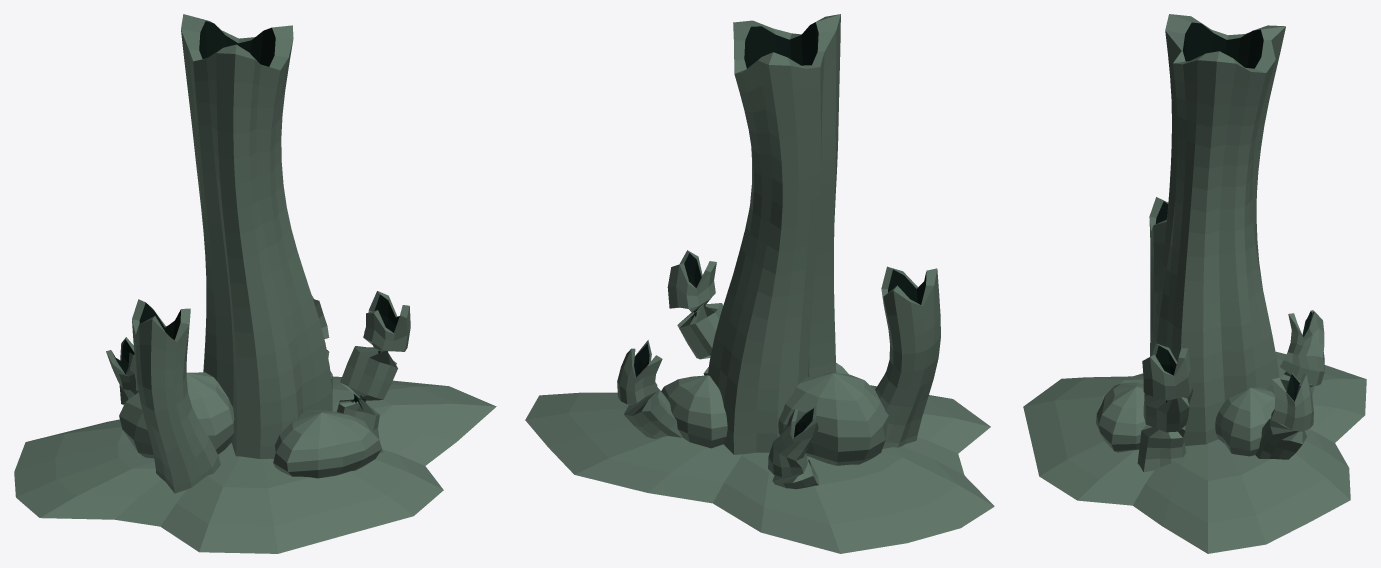
The model's file is landmark_pressure_vent_a.glb.
3 views of the same model, side by side, from view 1: azimuth 30°, elevation 25°; view 2: azimuth 150°, elevation 25°; view 3: azimuth 270°, elevation 25° (orthographic). The views are drawn at different scales.
Visible parts, largest first — view 1: landmark_pressure_vent_a_lod0; view 2: landmark_pressure_vent_a_lod0; view 3: landmark_pressure_vent_a_lod0.
Boxes of the visible parts, left/top/right/bottom form: landmark_pressure_vent_a_lod0: left=14, top=14, right=496, bottom=553; landmark_pressure_vent_a_lod0: left=525, top=14, right=994, bottom=553; landmark_pressure_vent_a_lod0: left=1023, top=14, right=1366, bottom=553.
Size of what is drawn, in the model's own units: 6.1 by 5.67 by 4.22.
